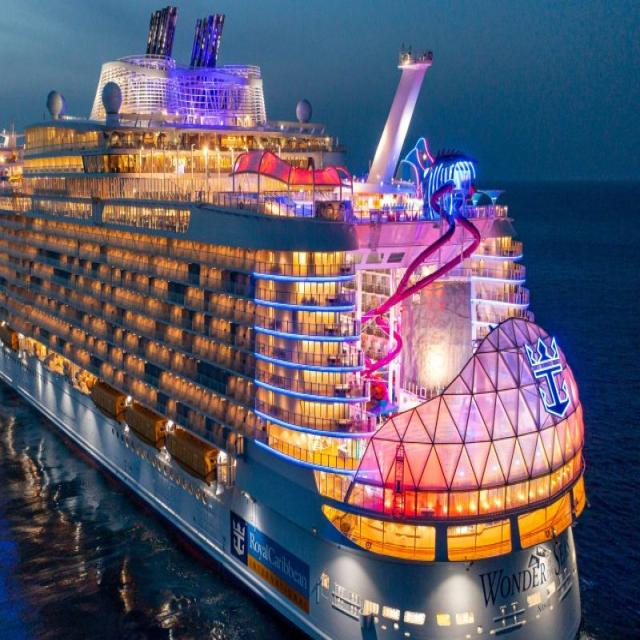PassengerShip: (0, 80, 608, 640)
